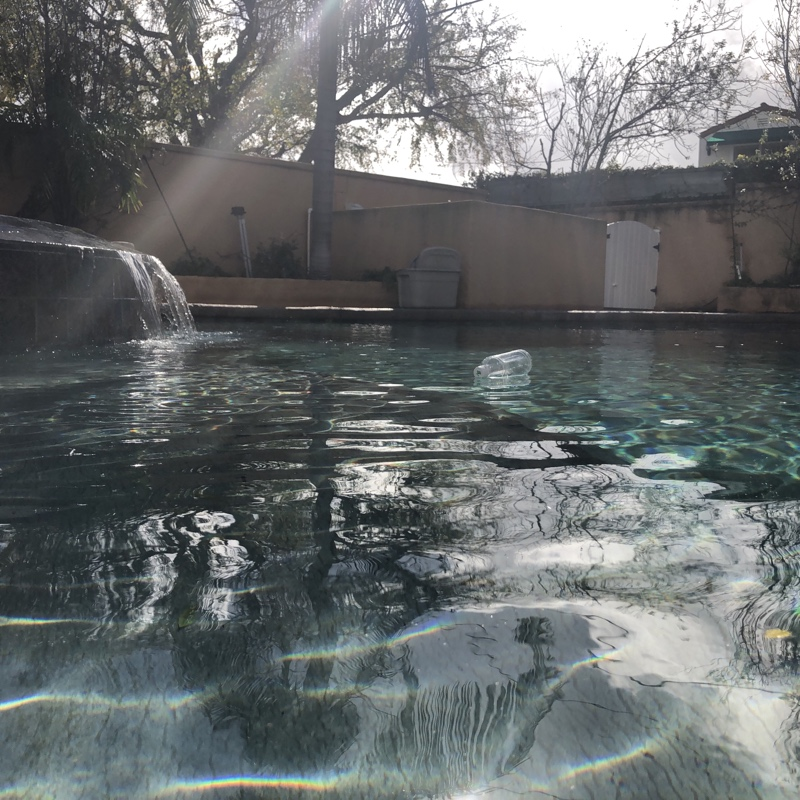Plastic Bottle: (472, 348, 534, 387)
